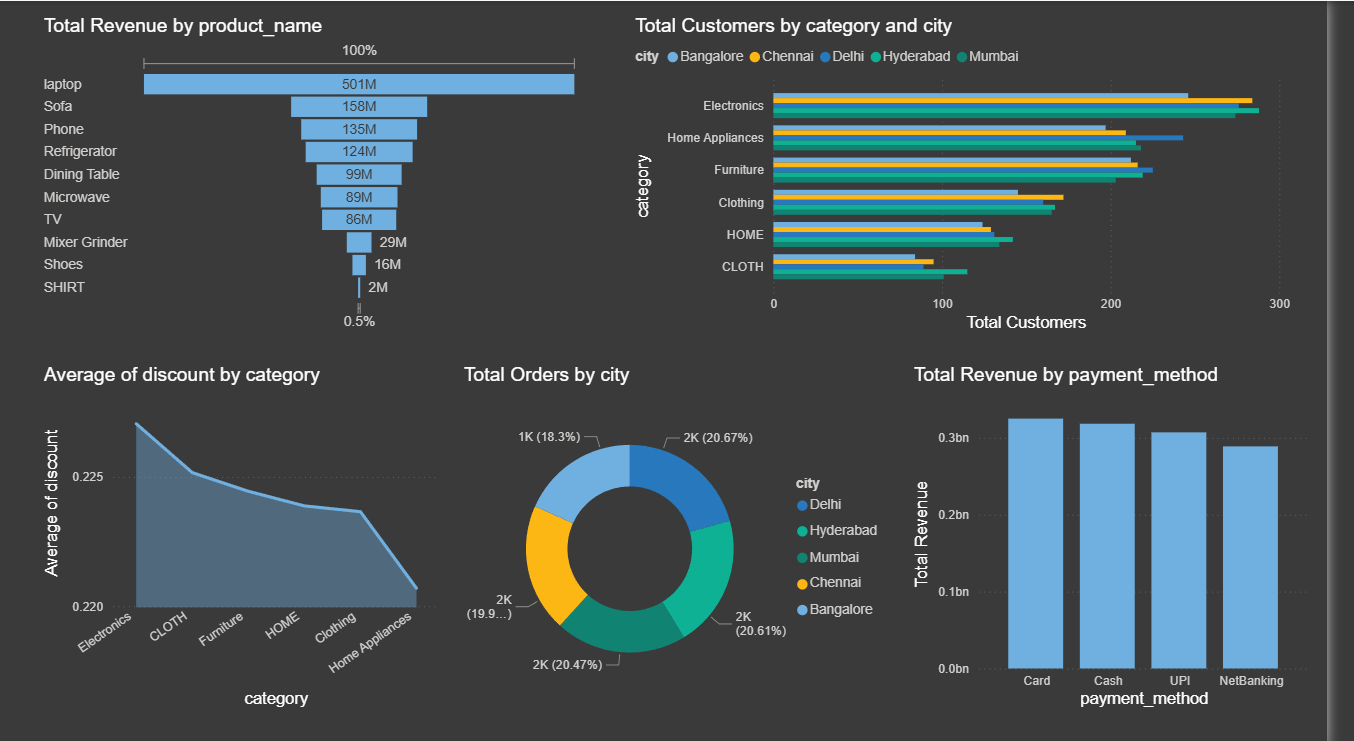

Layout of this report page (visuals, bound fields, positions):
{"tool":"powerbi","page":{"name":"Page 2","canvas":[1280,720],"ordinal":1},"visuals":[{"type":"funnel","fields":{"Category":["cleaned_retail_data.product_name"],"Y":["cleaned_retail_data.Total Revenue"]},"box":[37.1,12.9,527.1,310],"z":0},{"type":"areaChart","fields":{"Category":["cleaned_retail_data.category"],"Y":["Avg(cleaned_retail_data.discount)"]},"box":[37.1,350,391.4,337.1],"z":1000},{"type":"donutChart","fields":{"Category":["cleaned_retail_data.city"],"Y":["cleaned_retail_data.Total Orders"]},"box":[442.9,350,418.6,337.1],"z":2000},{"type":"clusteredBarChart","fields":{"Series":["cleaned_retail_data.city"],"Category":["cleaned_retail_data.category"],"Y":["cleaned_retail_data.Total Customers"]},"box":[608.6,12.9,642.9,310],"z":3000},{"type":"clusteredColumnChart","fields":{"Category":["cleaned_retail_data.payment_method"],"Y":["cleaned_retail_data.Total Revenue"]},"box":[877.1,350,391.4,337.1],"z":4000}]}

Visuals, with their boxes in screenshot pixels (x1, y1, x2, y2), scaled from the page's 1280x720 canvas onto the 1354x741 screenshot:
funnel - cleaned_retail_data.product_name x cleaned_retail_data.Total Revenue: <box>39,13,597,332</box>
areaChart - cleaned_retail_data.category x Avg(cleaned_retail_data.discount): <box>39,360,453,707</box>
donutChart - cleaned_retail_data.city x cleaned_retail_data.Total Orders: <box>469,360,911,707</box>
clusteredBarChart - cleaned_retail_data.city x cleaned_retail_data.category: <box>644,13,1324,332</box>
clusteredColumnChart - cleaned_retail_data.payment_method x cleaned_retail_data.Total Revenue: <box>928,360,1342,707</box>
